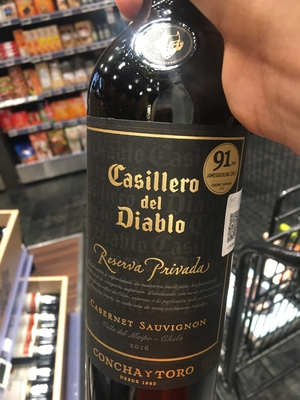casillero del diablo reserva privada cabernet sauvignon: (78, 18, 267, 400)
